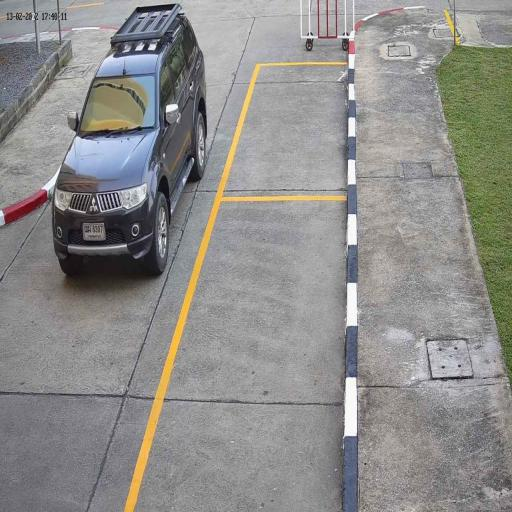car: (50, 4, 210, 284)
